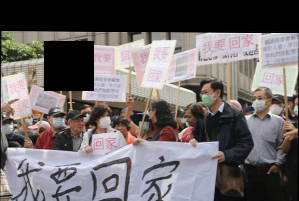with_mask: (250, 93, 269, 112), (198, 87, 214, 107), (268, 98, 284, 115), (97, 111, 111, 129), (0, 119, 14, 136), (19, 113, 34, 128), (50, 113, 65, 128), (137, 116, 151, 132), (79, 109, 92, 123), (146, 107, 155, 125), (178, 113, 187, 124), (292, 100, 298, 115)
without_mask: (70, 116, 85, 133), (114, 121, 127, 137), (184, 113, 196, 128)
